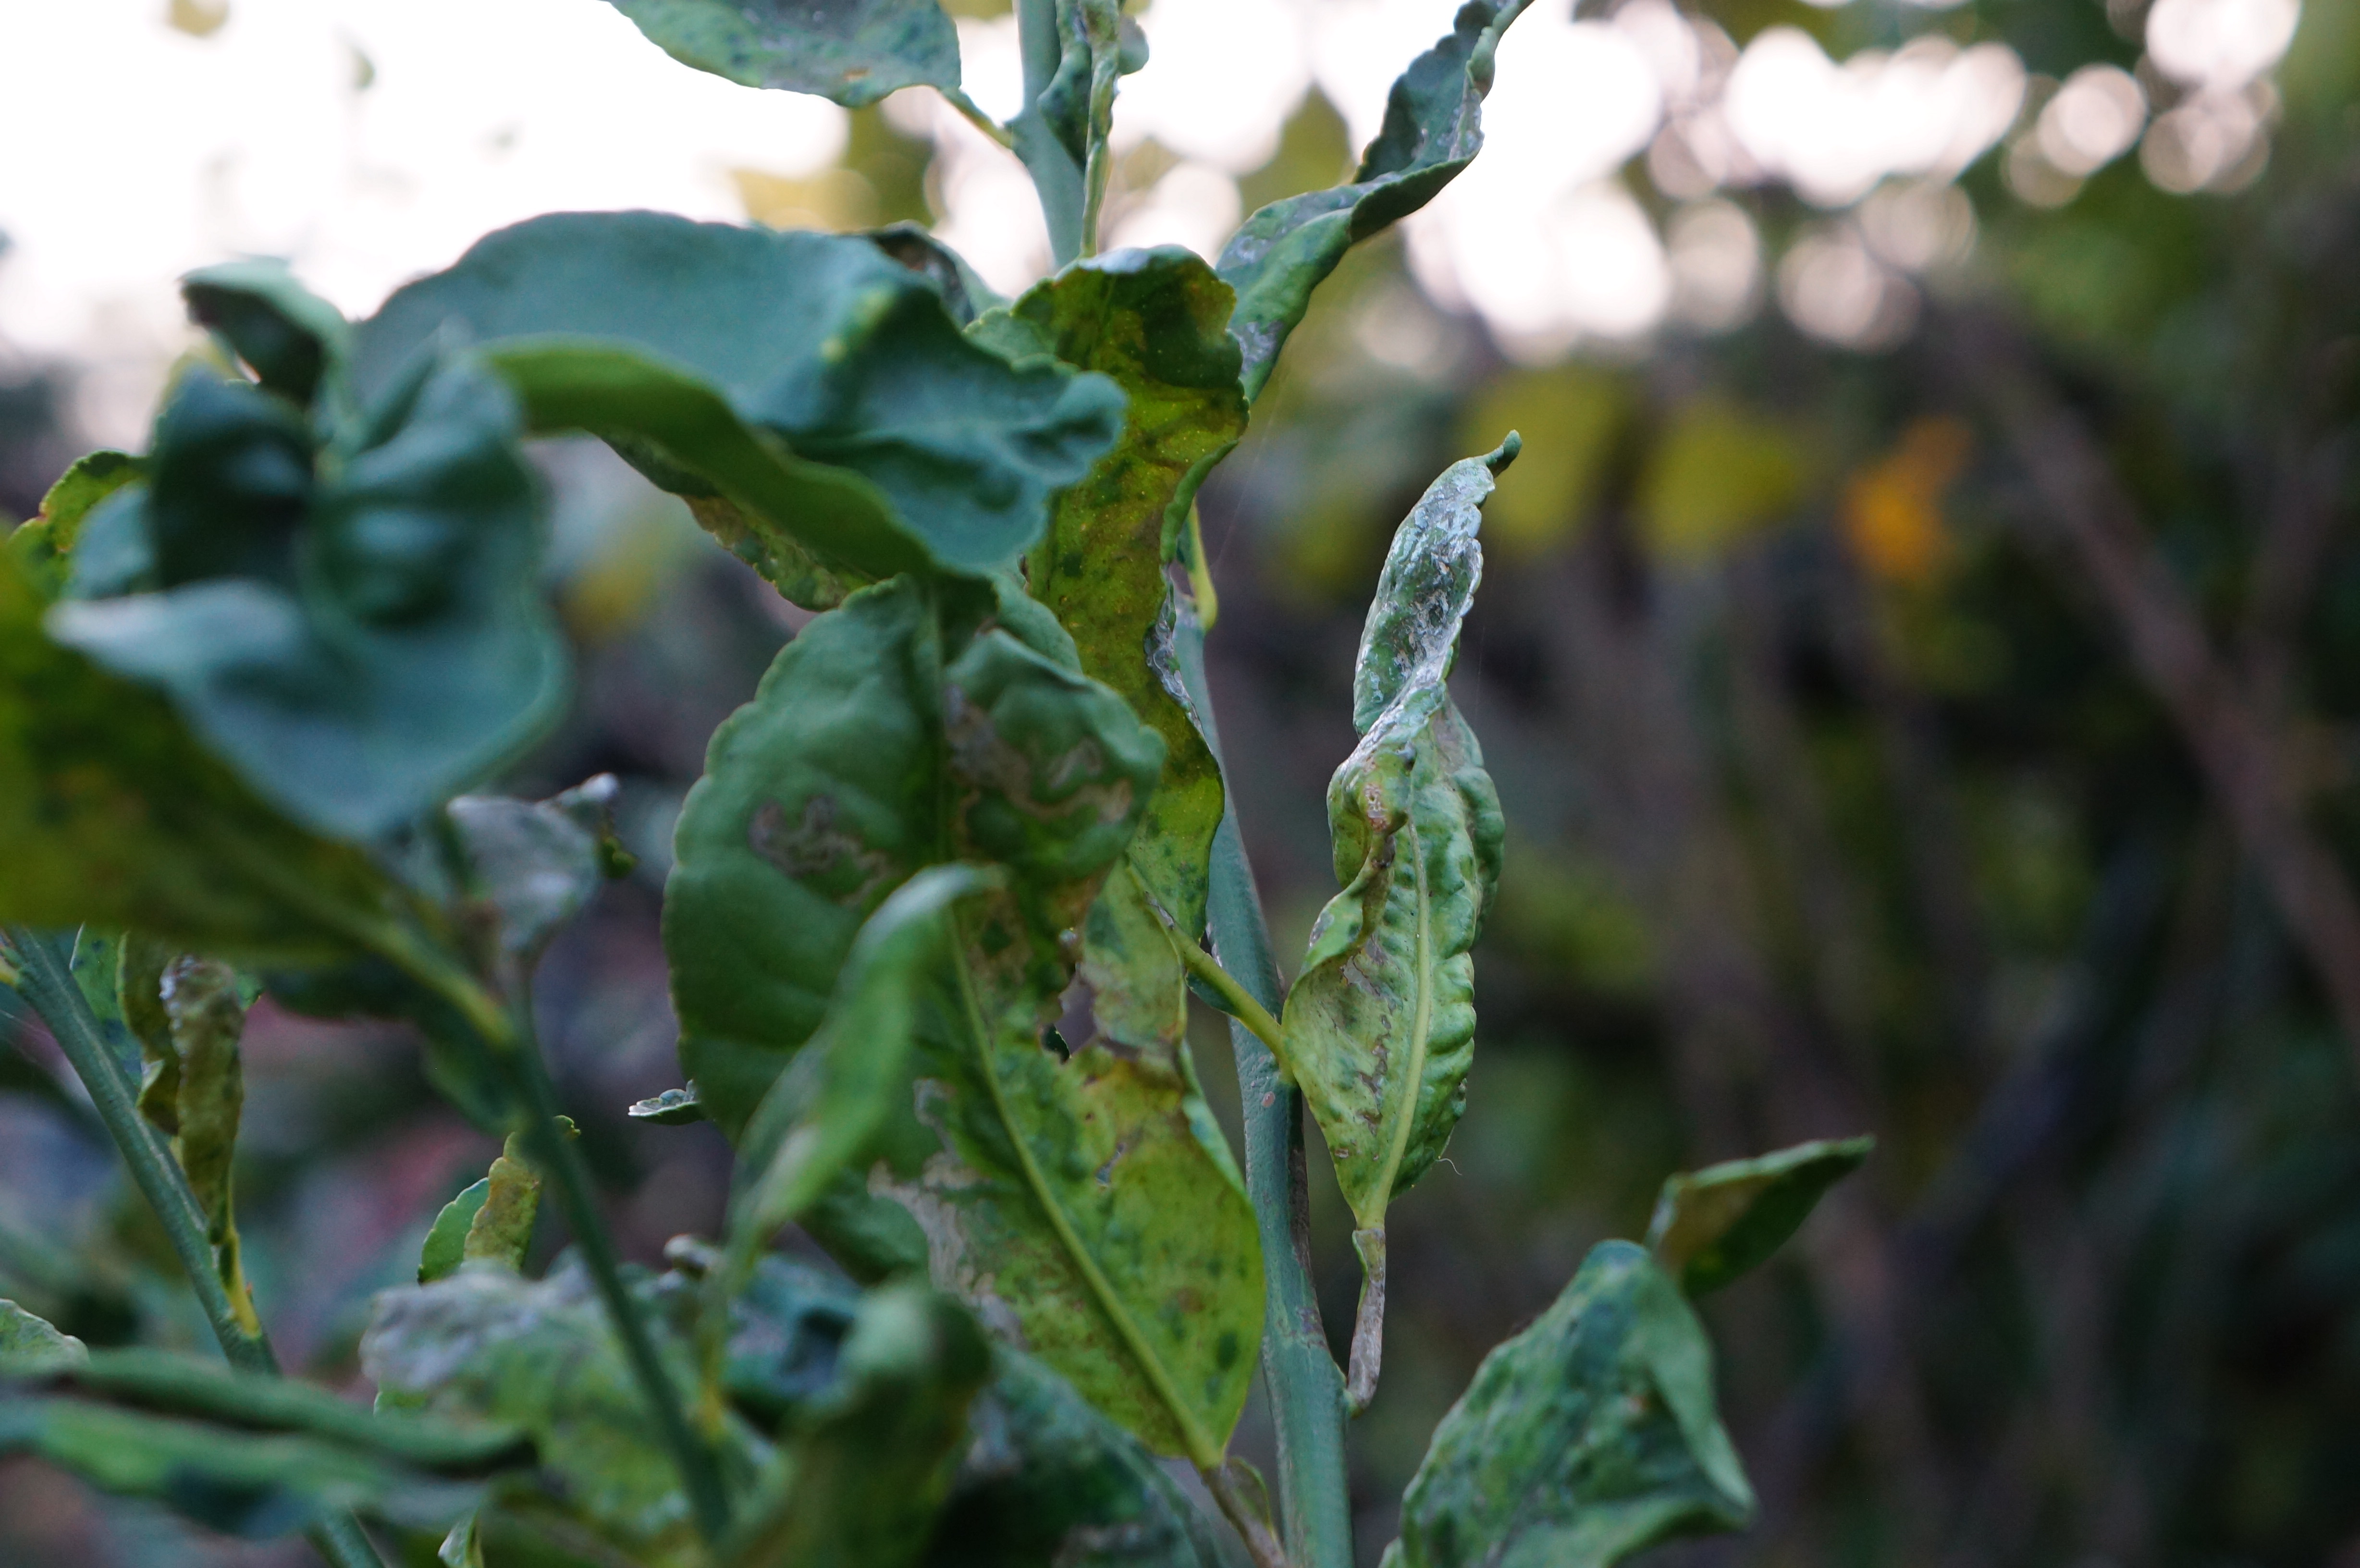damage: (1268, 406, 1554, 1239), (978, 231, 1263, 985), (1177, 0, 1552, 530)
